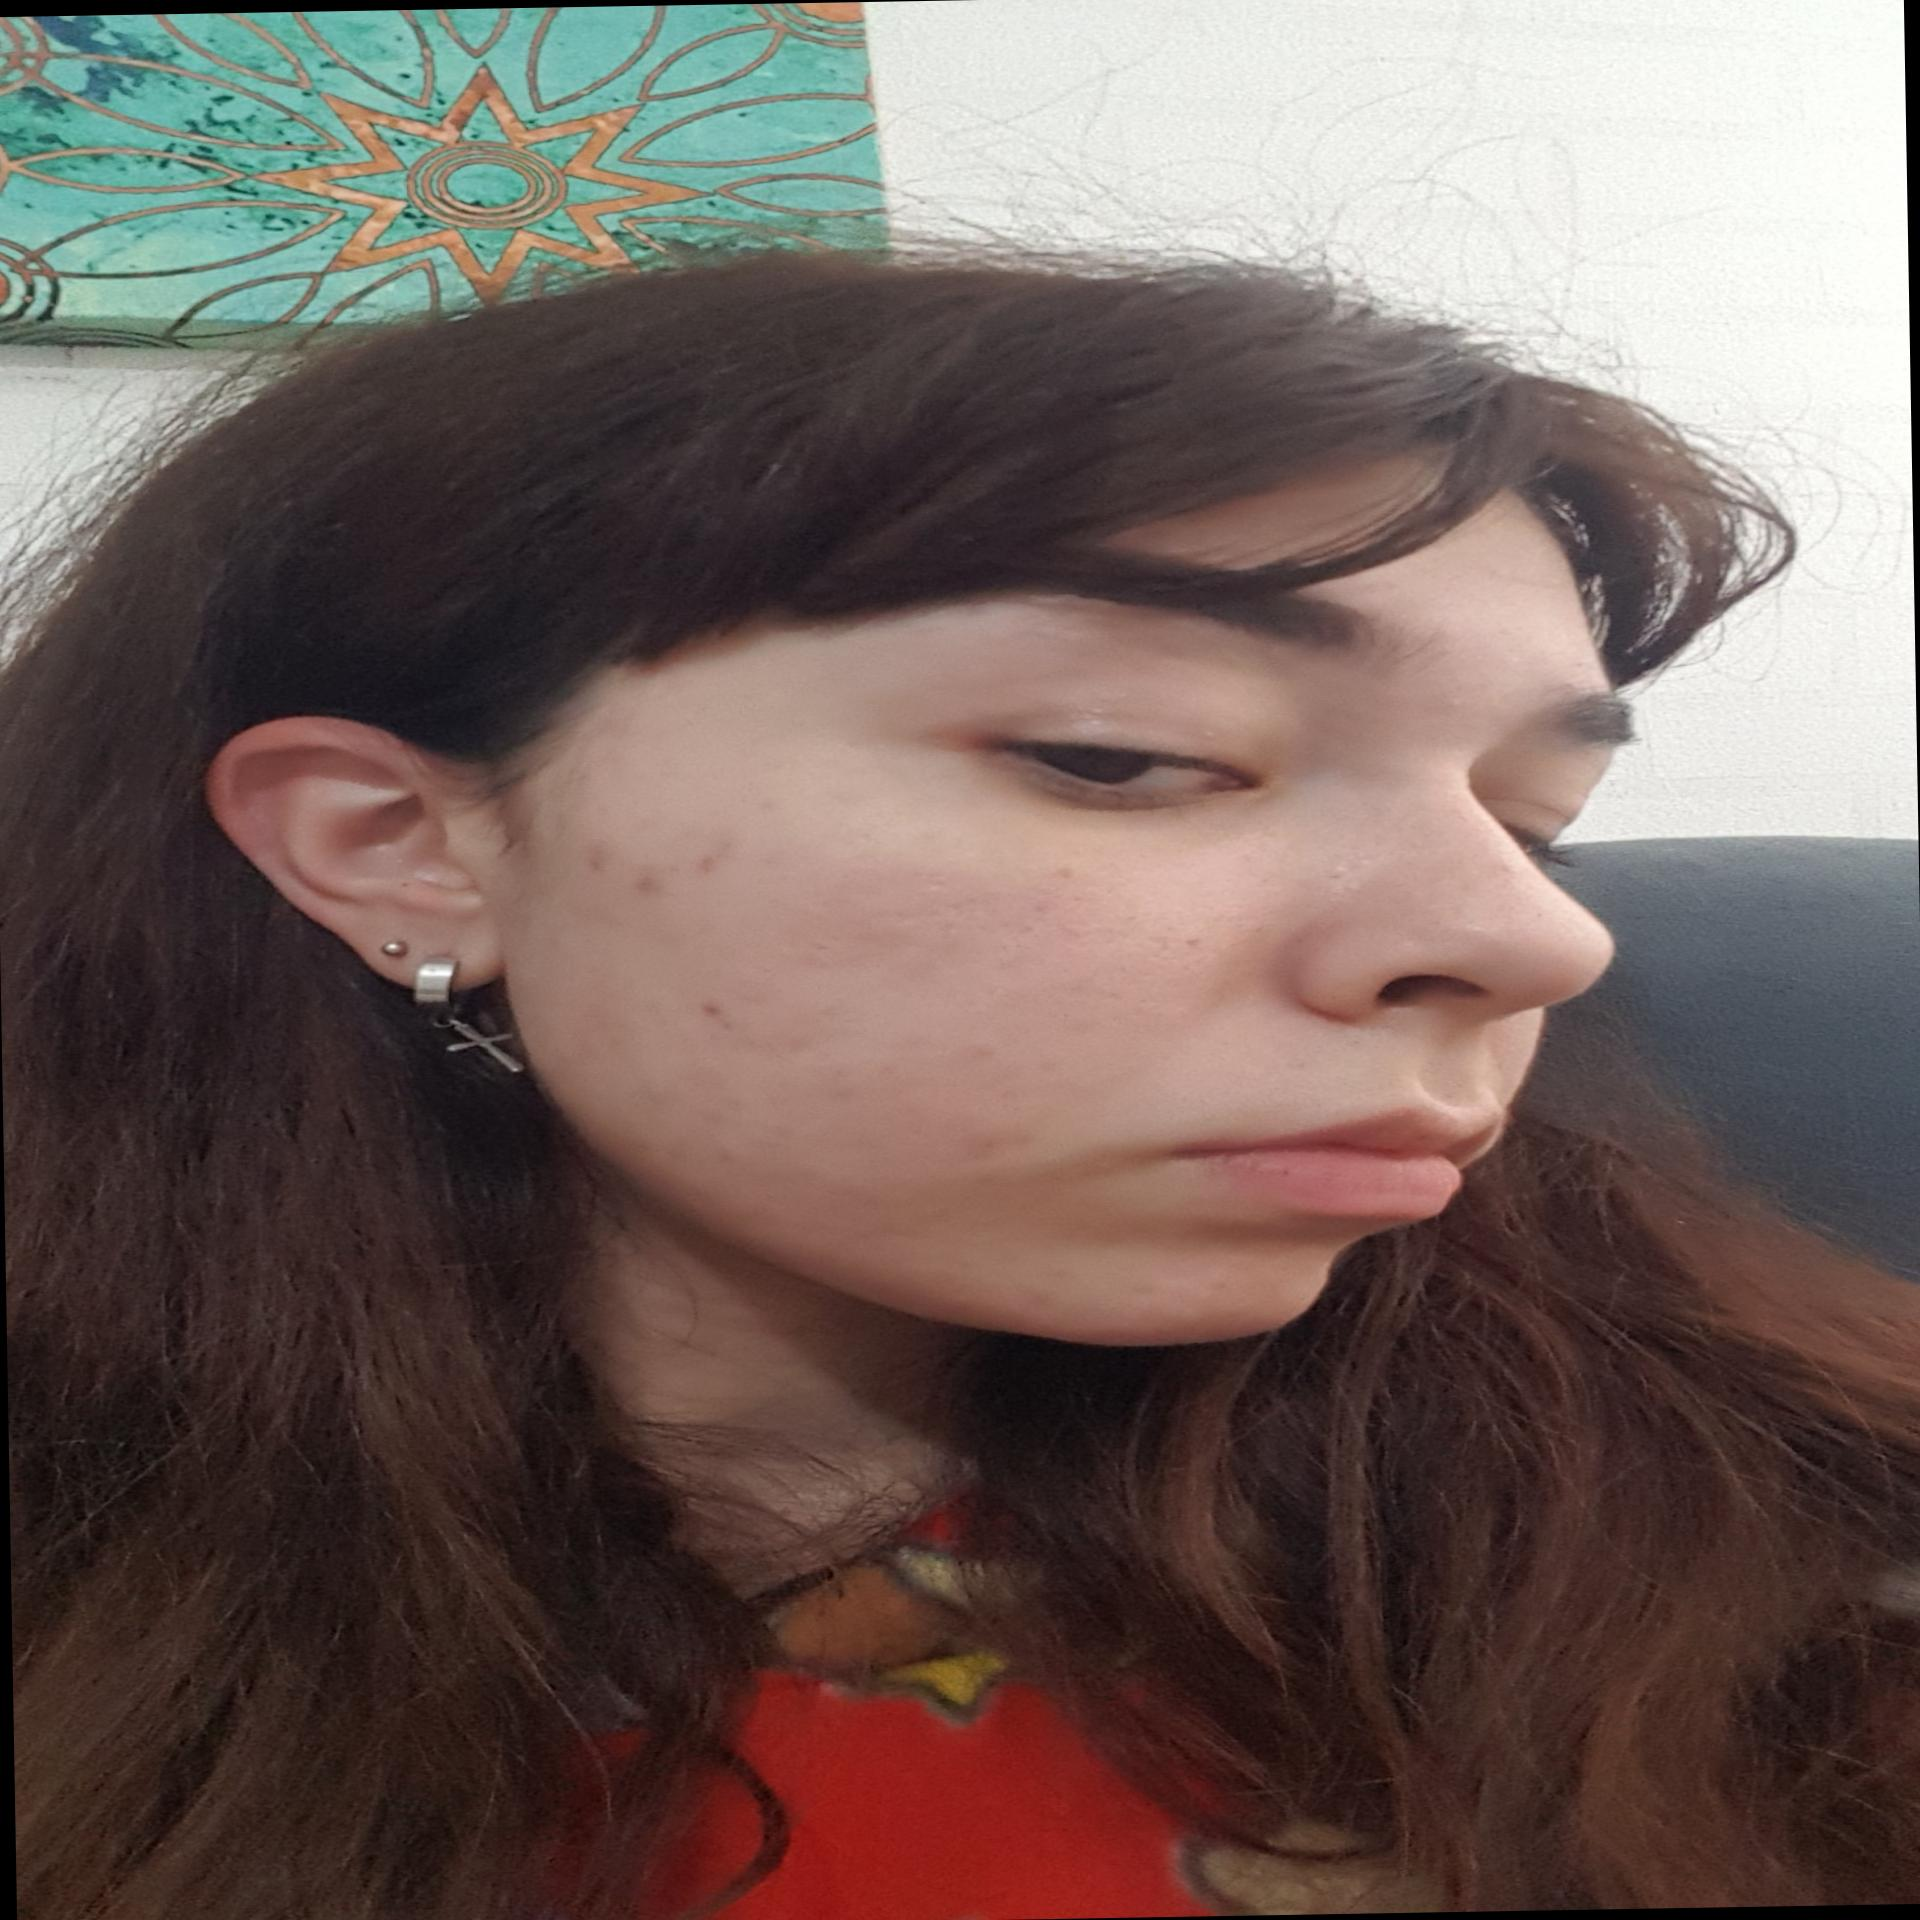Acne: (935, 1125, 1043, 1159), (687, 992, 756, 1041), (682, 837, 744, 876), (619, 862, 670, 900), (770, 1030, 819, 1065), (577, 842, 624, 874), (958, 1037, 1006, 1064), (744, 791, 784, 812), (825, 1080, 860, 1101), (1438, 693, 1466, 712)
Englarged Pores: (902, 863, 1225, 983)
